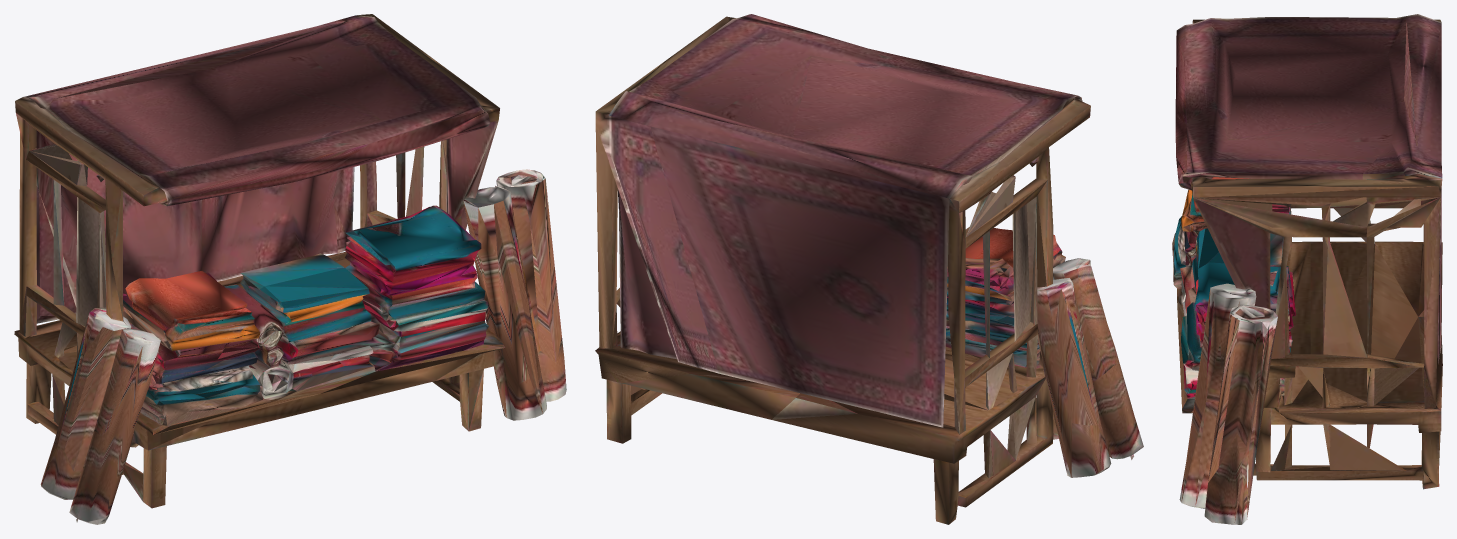
The model's file is la_cloth_stall2.glb.
3 renders of one model, left to right at view 1: azimuth 30°, elevation 25°; view 2: azimuth 150°, elevation 25°; view 3: azimuth 270°, elevation 25°, orthographic. The views are drawn at different scales.
Parts seen in each view (by area): view 1: la_cloth_stall2; view 2: la_cloth_stall2; view 3: la_cloth_stall2.
Boxes of the visible parts, x1,y1,x2,y2 form: la_cloth_stall2: (14, 14, 566, 524); la_cloth_stall2: (595, 14, 1143, 524); la_cloth_stall2: (1172, 14, 1442, 524).
Bounding box in the file's own units: 2 × 1.3 × 0.9834.
1 material, 1 textured.
